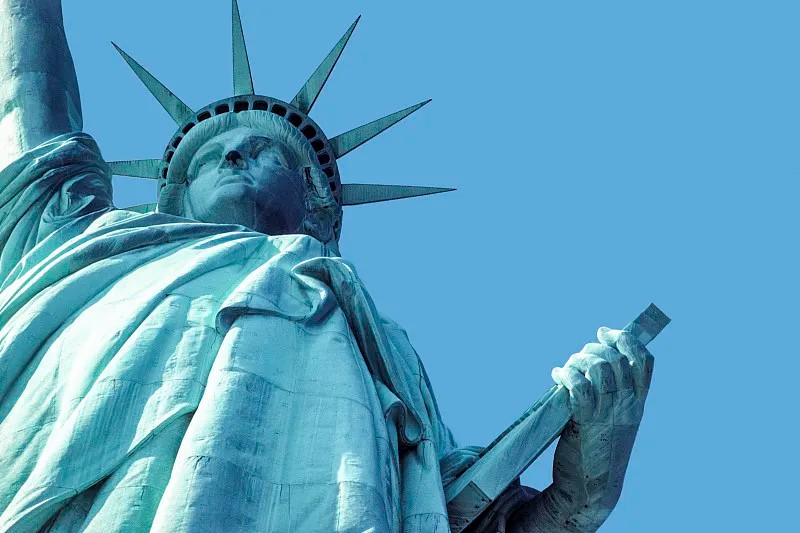SL: (1, 1, 671, 531)
